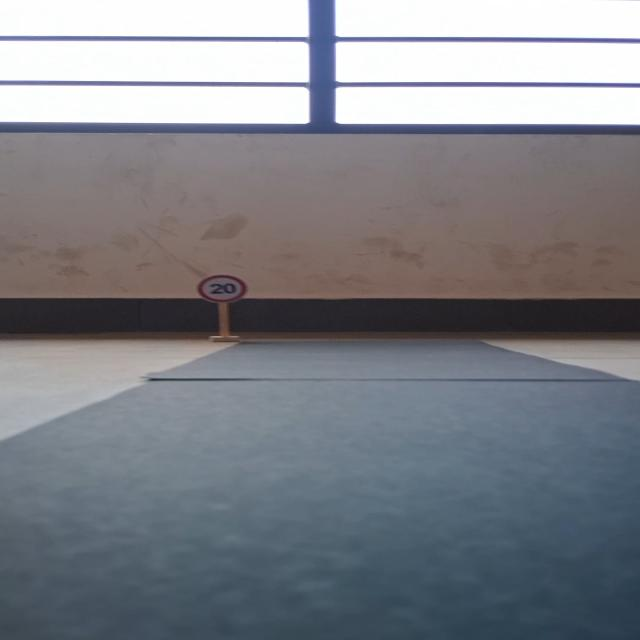Speed20: (195, 273, 250, 304)
